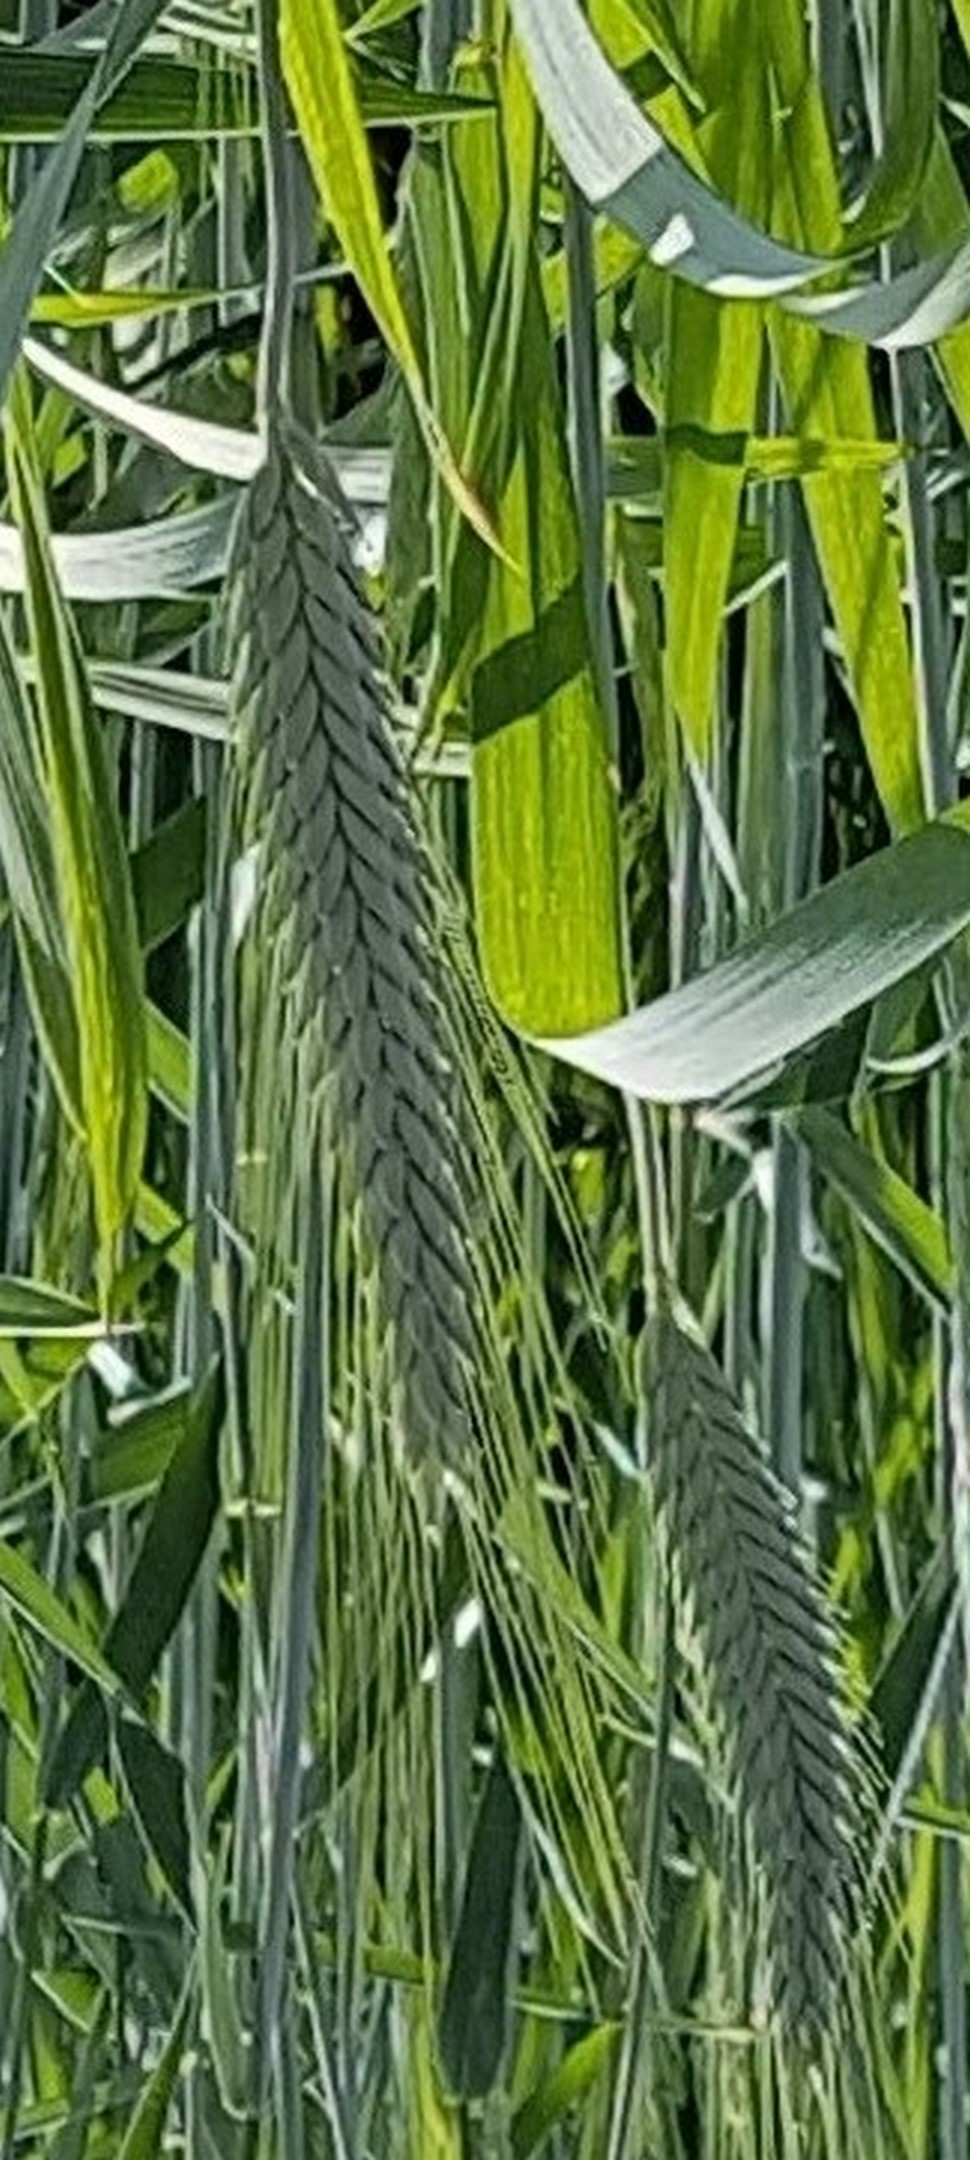Healthy Wheat: (207, 452, 564, 1510)
